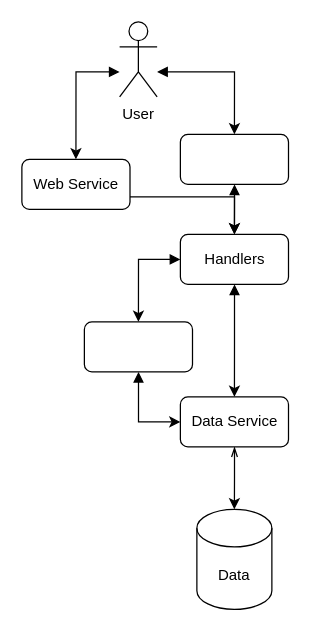
The diagram is 311 pixels wide and 631 high, and some of its shapes have lost their labels. The shapes that lost their labels are listed below. From the top down, each one's centre as x and y in pixels, then its label:
At pixel 233 158: "User Interface".
At pixel 137 346: "Order Service".
